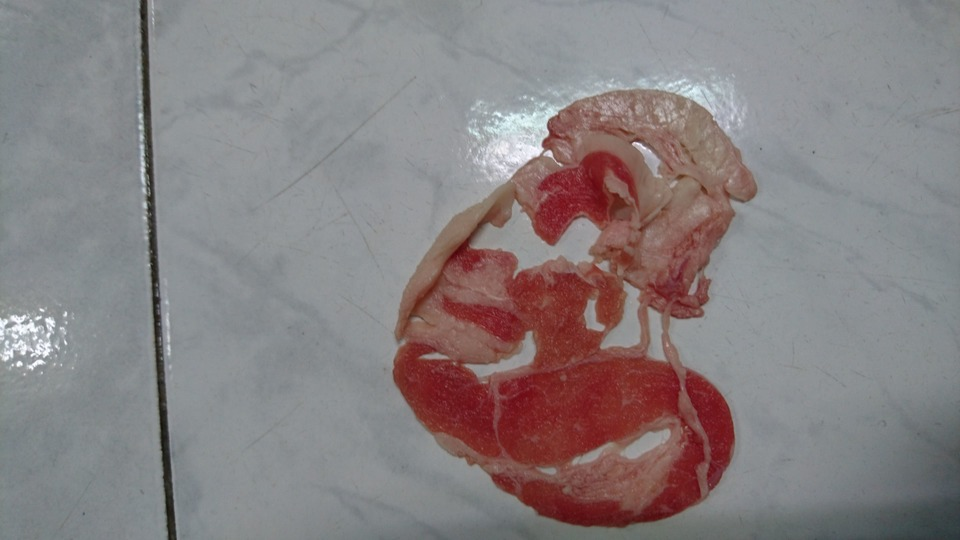restructured meat: (386, 89, 740, 529)
